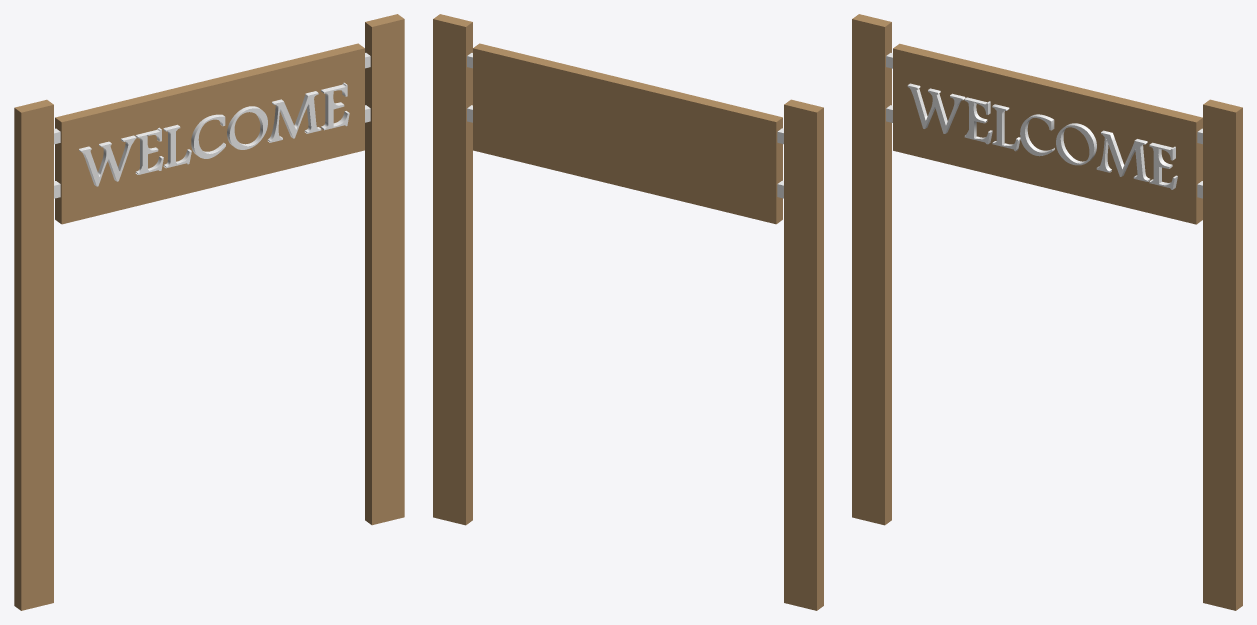
The model's file is placa_2.obj.
3 views of the same model, side by side, from view 1: azimuth 30°, elevation 25°; view 2: azimuth 150°, elevation 25°; view 3: azimuth 330°, elevation 25° (orthographic).
Visible parts, largest first — view 1: poster_WelcomePoster.003, WelcomePoster_welcome.003; view 2: poster_WelcomePoster.003; view 3: poster_WelcomePoster.003, WelcomePoster_welcome.003.
Boxes of the visible parts, x1=… form: poster_WelcomePoster.003: x1=14, y1=14, x2=404, y2=610; WelcomePoster_welcome.003: x1=79, y1=82, x2=349, y2=186; poster_WelcomePoster.003: x1=433, y1=14, x2=823, y2=610; poster_WelcomePoster.003: x1=852, y1=14, x2=1242, y2=610; WelcomePoster_welcome.003: x1=907, y1=83, x2=1177, y2=189.
Size of the model in its own units: 8.82 by 10.95 by 0.3984.
